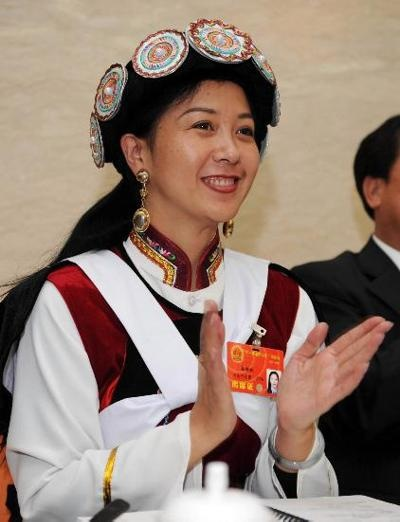person without safety: (17, 14, 392, 462)
